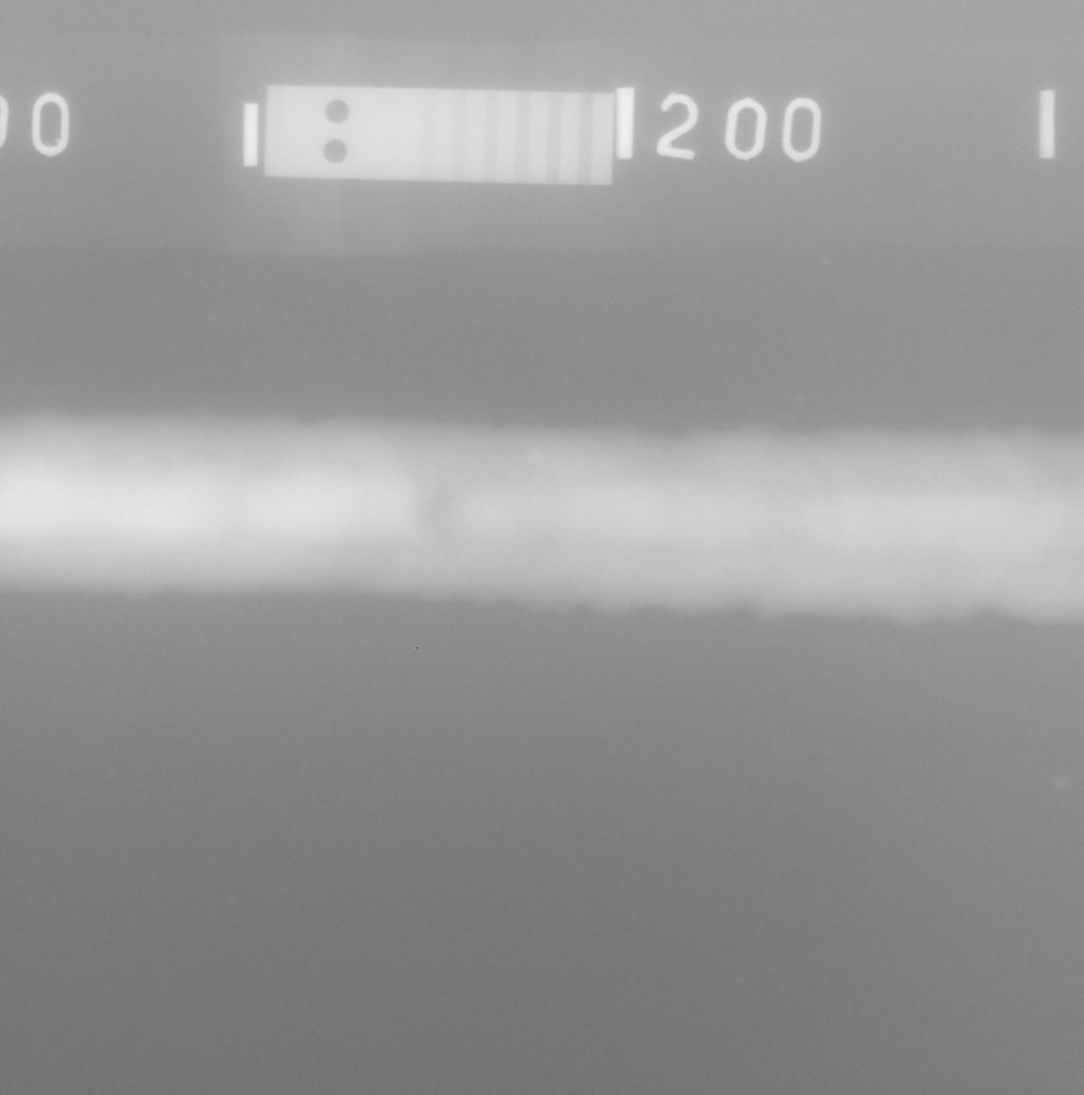Reference Standard 2: (264, 85, 614, 187)
